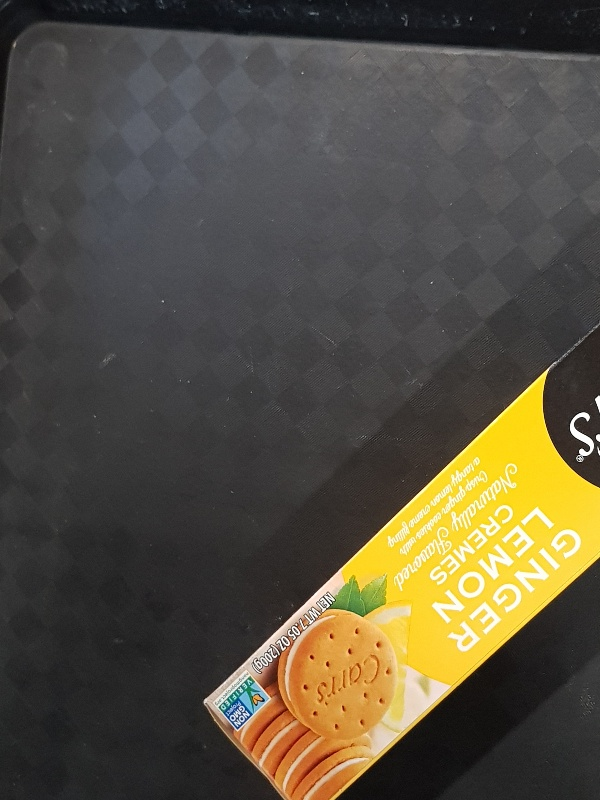Carr's Ginger Lemon Cremes: (199, 319, 600, 799)
